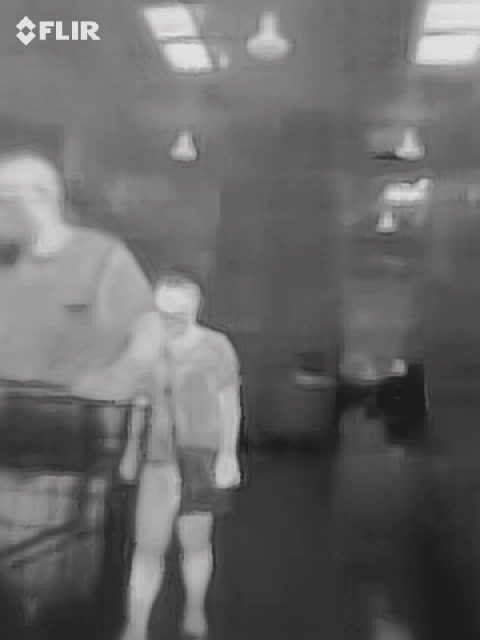head: (1, 150, 63, 245), (155, 274, 203, 331)
